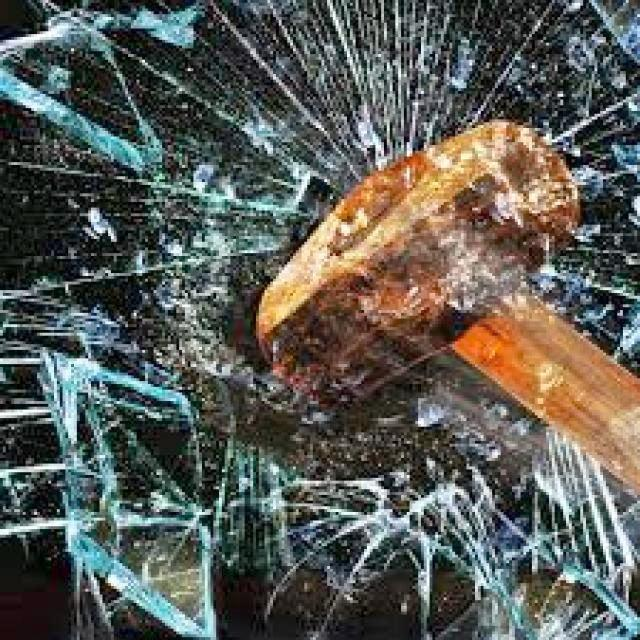hammer: (222, 111, 640, 569)
